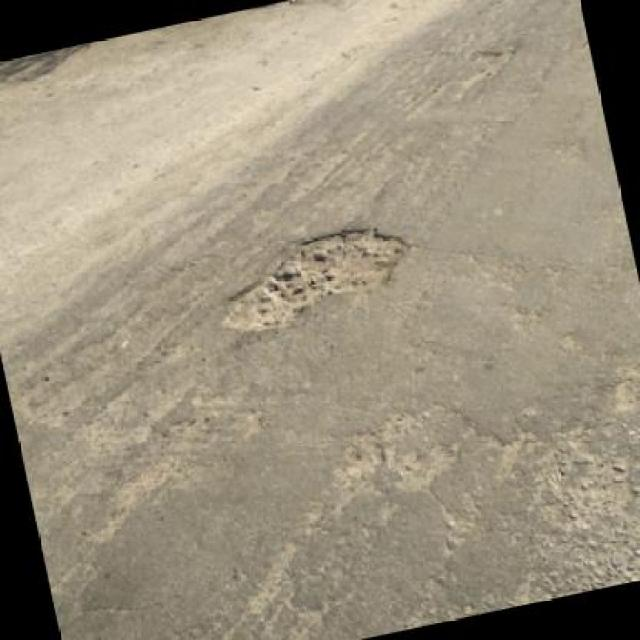pothole1: (203, 212, 423, 338), (457, 35, 525, 88)
